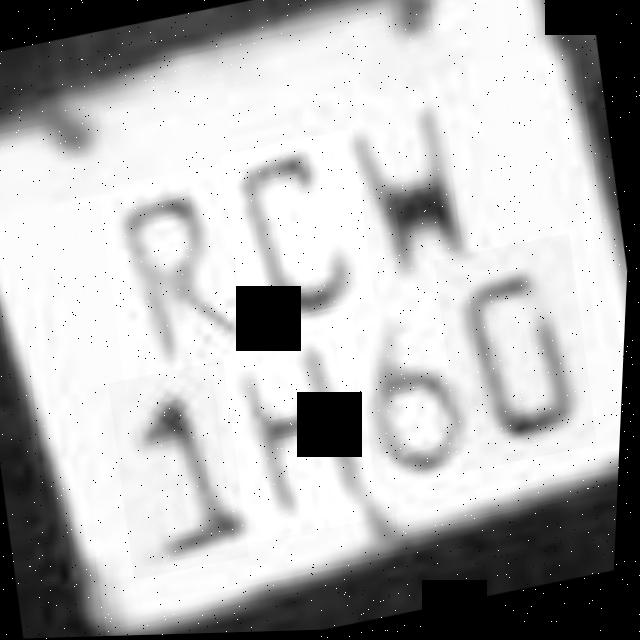0: (429, 236, 608, 476)
1: (104, 361, 261, 582)
6: (326, 286, 495, 512)
C: (216, 130, 384, 330)
H: (203, 311, 391, 549), (332, 91, 497, 299)
R: (93, 161, 272, 398)
